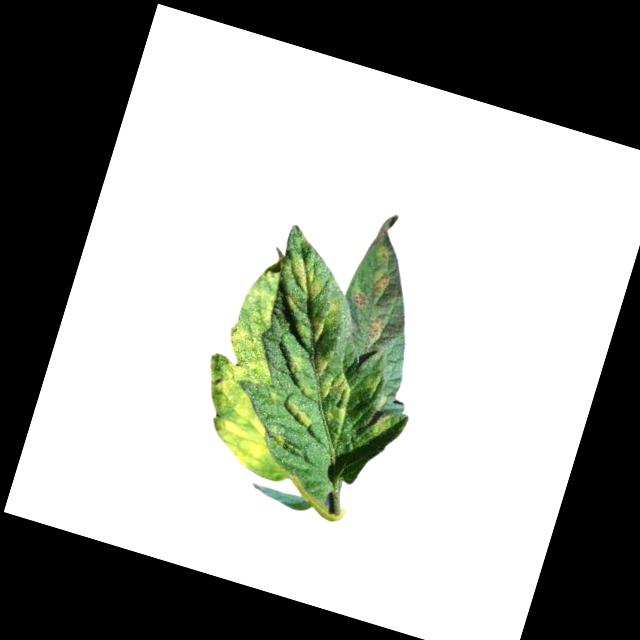Leaf_Mold: (248, 248, 388, 437), (341, 212, 421, 344), (195, 362, 286, 473), (220, 267, 298, 376)
